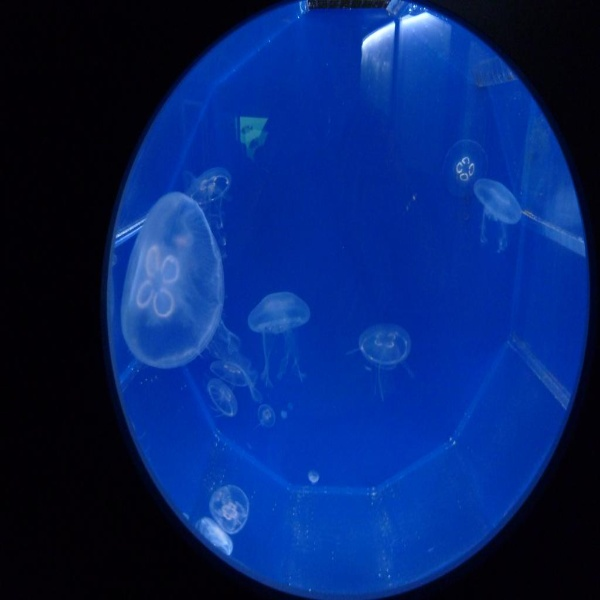Jellyfish: (121, 140, 521, 555)
